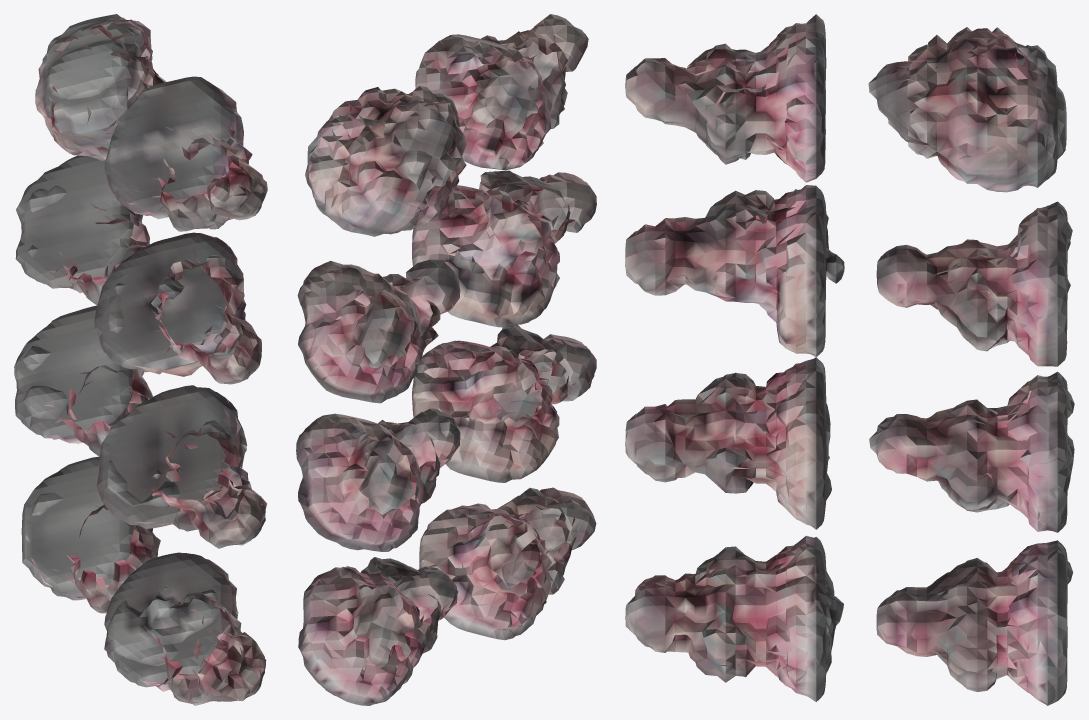
3 renders of one model, left to right at view 1: azimuth 30°, elevation 25°; view 2: azimuth 150°, elevation 25°; view 3: azimuth 270°, elevation 25°, orthographic. The views are drawn at different scales.
Visible parts, largest first — view 1: geometry_0; view 2: geometry_0; view 3: geometry_0.
Part boxes in pixels (left/top/right/bottom): geometry_0: left=14, top=14, right=267, bottom=705; geometry_0: left=296, top=14, right=596, bottom=705; geometry_0: left=625, top=14, right=1074, bottom=705.
Bounding box in the file's own units: 0.2671 × 1 × 0.6126.
